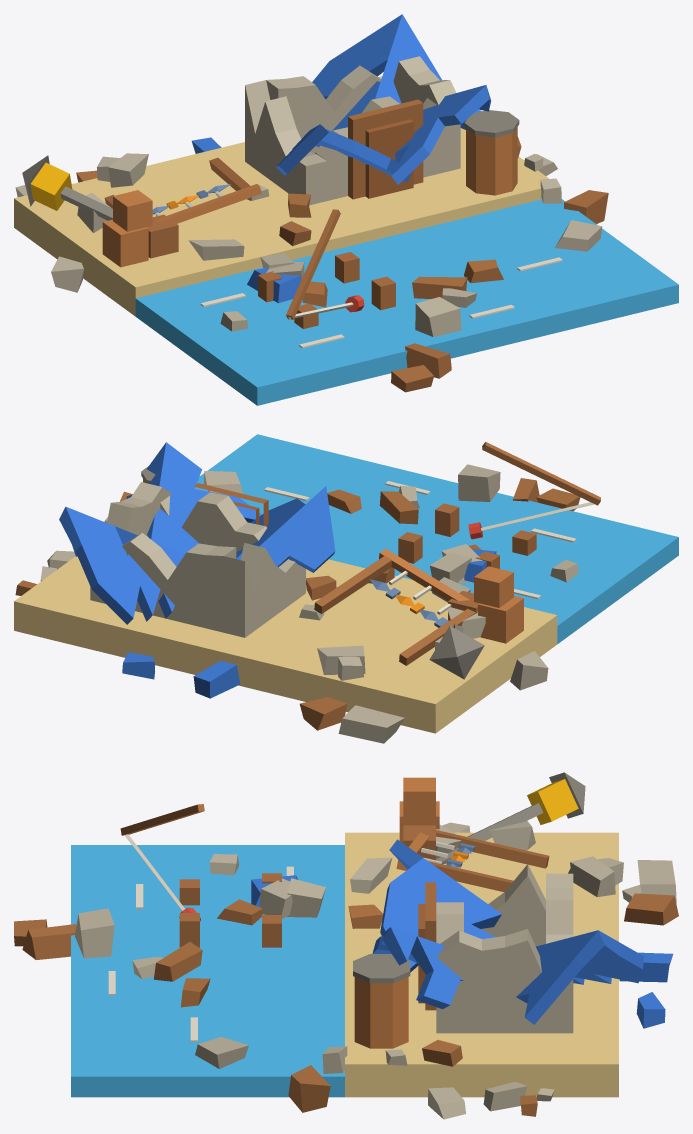
File: fishery_t1_v2_dmg2.glb
3 renders of one model, top to bottom at view 1: azimuth 30°, elevation 25°; view 2: azimuth 150°, elevation 25°; view 3: azimuth 270°, elevation 25°, orthographic. The views are drawn at different scales.
Parts seen in each view (by area): view 1: fishery_t1_v2_dmg2; view 2: fishery_t1_v2_dmg2; view 3: fishery_t1_v2_dmg2.
Boxes of the visible parts, x1=… form: fishery_t1_v2_dmg2: x1=14, y1=14, x2=678, y2=405; fishery_t1_v2_dmg2: x1=14, y1=434, x2=678, y2=743; fishery_t1_v2_dmg2: x1=14, y1=772, x2=678, y2=1119.
Size of the model in its own units: 0.7175 by 0.1739 by 0.728.
1 material, 1 textured.
